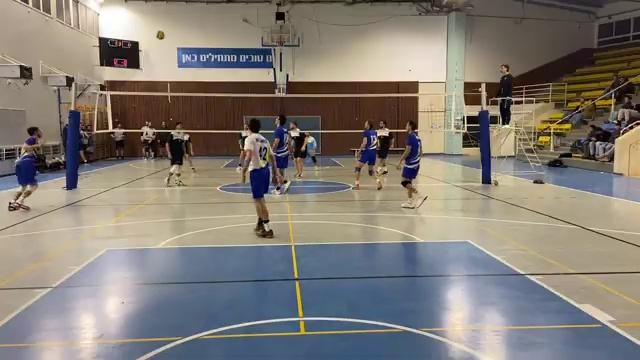ball: (154, 27, 167, 43)
